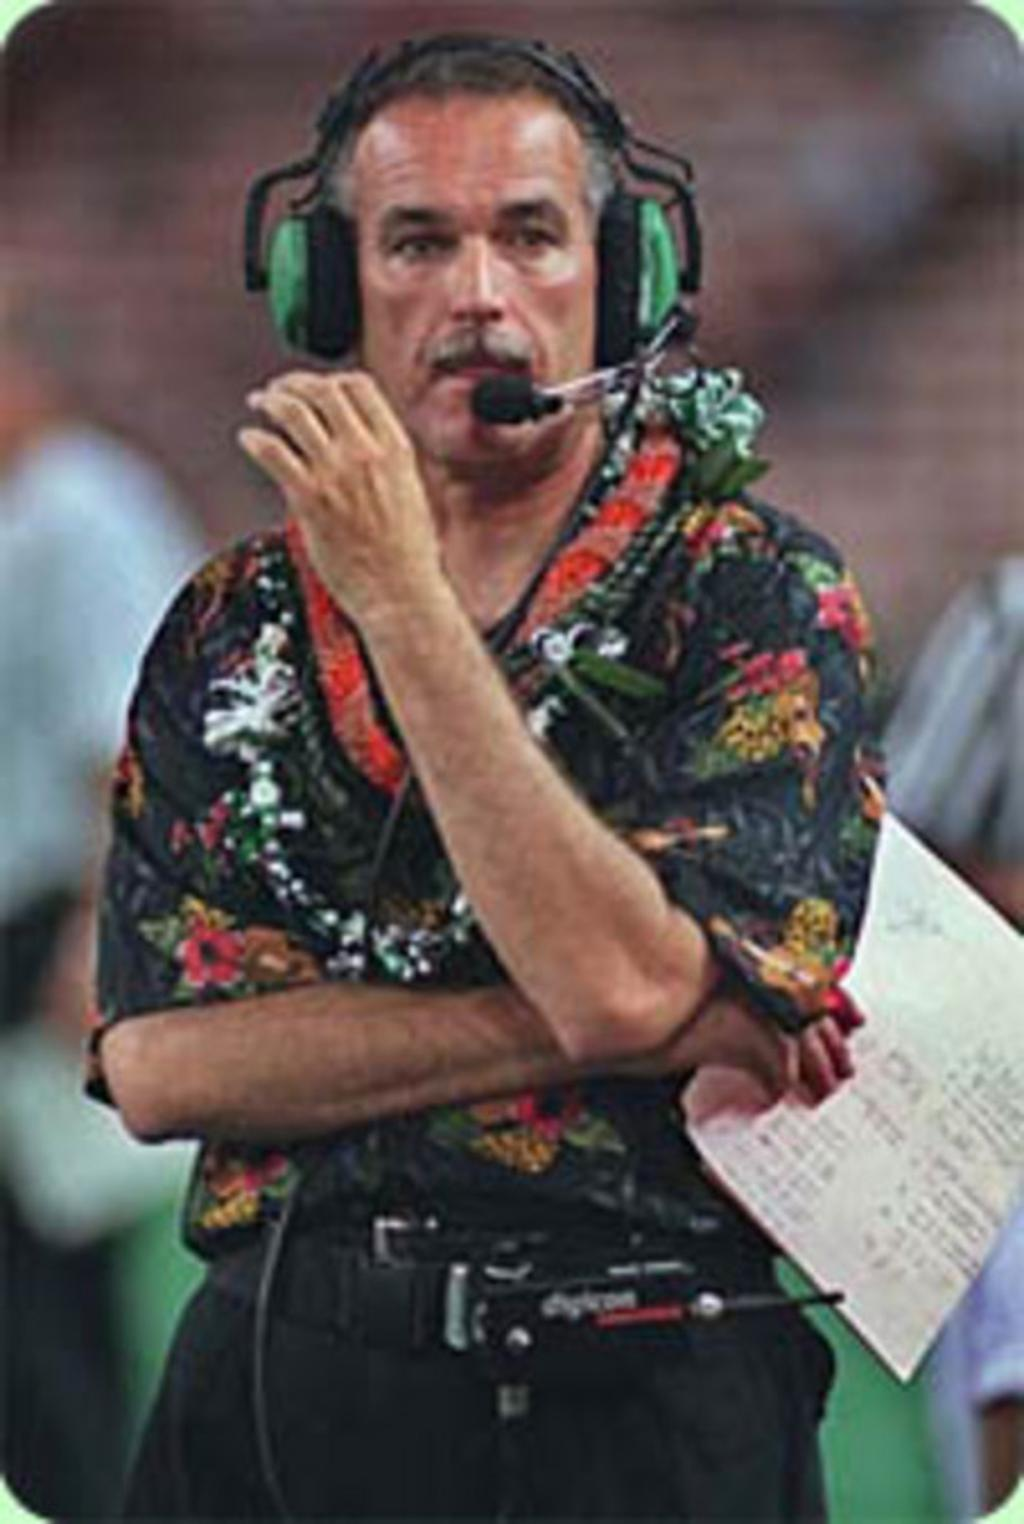face: (351, 98, 595, 461)
